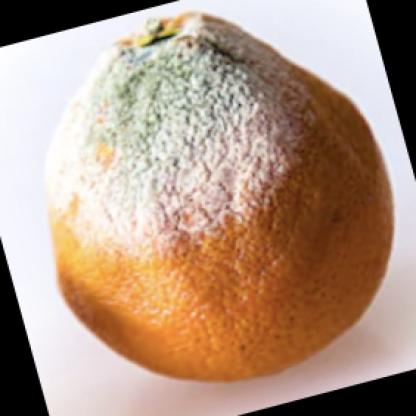rotten: (51, 19, 394, 378)
